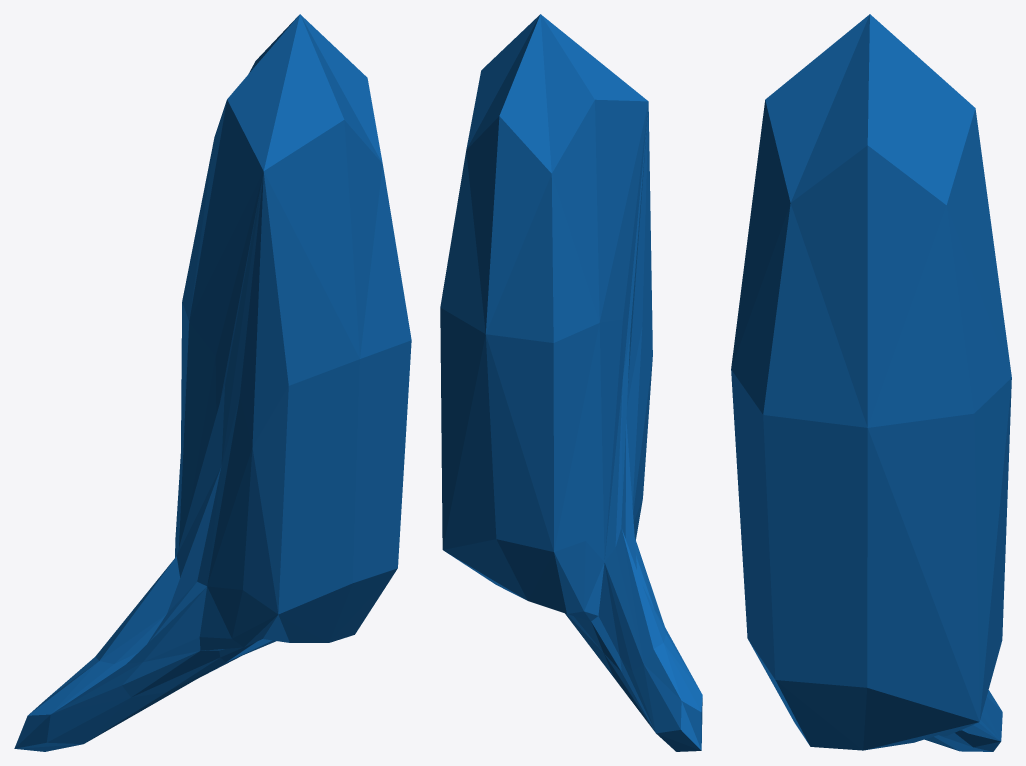
3 views of the same model, side by side, from view 1: azimuth 30°, elevation 25°; view 2: azimuth 150°, elevation 25°; view 3: azimuth 270°, elevation 25° (orthographic). The views are drawn at different scales.
Visible parts, largest first — view 1: 064_Cube.261; view 2: 064_Cube.261; view 3: 064_Cube.261.
Boxes of the visible parts, bbox=[...] form: 064_Cube.261: bbox=[14, 14, 411, 751]; 064_Cube.261: bbox=[440, 14, 702, 751]; 064_Cube.261: bbox=[731, 14, 1011, 751].
Bounding box in the file's own units: 6.5 × 14.1 × 4.2.
